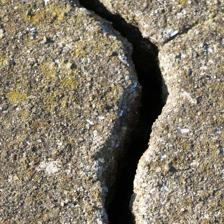Crack: (36, 2, 140, 221)
